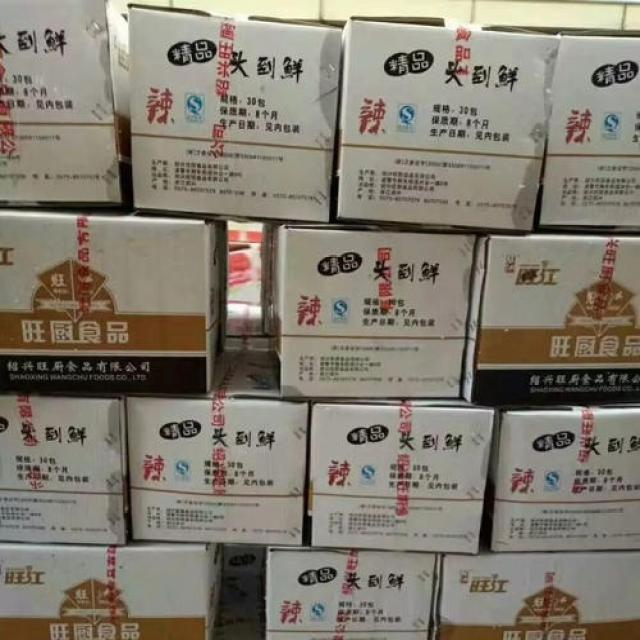box: (332, 18, 559, 235), (128, 6, 344, 221), (0, 207, 229, 399), (126, 336, 311, 547), (267, 220, 478, 400), (460, 235, 639, 406), (305, 398, 498, 554), (0, 0, 130, 210), (481, 403, 639, 550), (0, 540, 225, 639), (535, 28, 639, 236), (434, 537, 639, 639), (0, 397, 127, 545), (265, 548, 441, 639), (223, 544, 267, 623)
